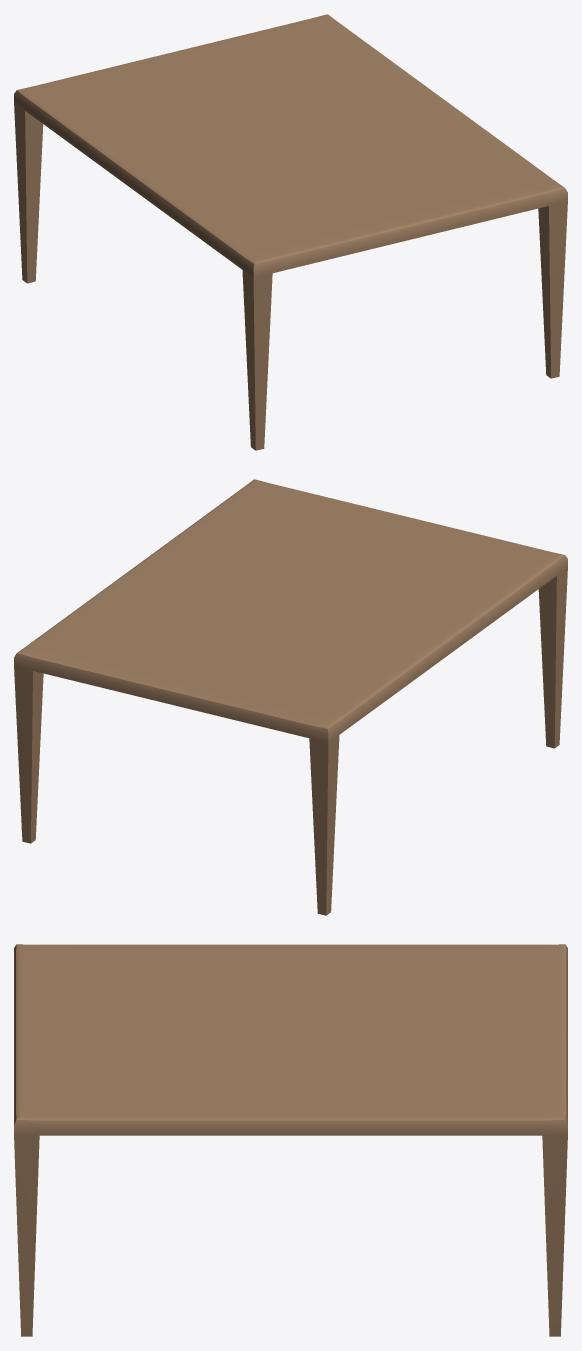
The model's file is table.fbx.
3 renders of one model, top to bottom at view 1: azimuth 30°, elevation 25°; view 2: azimuth 150°, elevation 25°; view 3: azimuth 270°, elevation 25°, orthographic. The views are drawn at different scales.
Visible parts, largest first — view 1: pCube1; view 2: pCube1; view 3: pCube1.
Part boxes in pixels (x1,y1,x2,y2): pCube1: (14, 14, 567, 450); pCube1: (14, 479, 567, 915); pCube1: (14, 944, 567, 1336).
Bounding box in the file's own units: 10.08 × 5.83 × 13.31.
